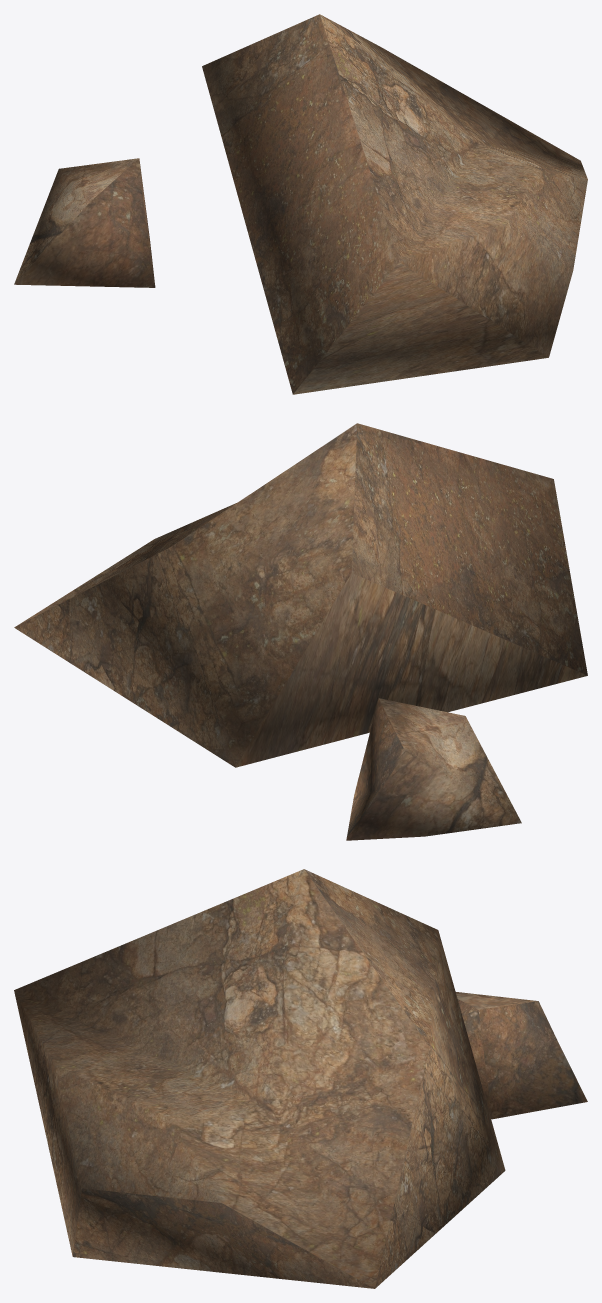
Rendered from pebbles2.fbx.
3 renders of one model, top to bottom at view 1: azimuth 30°, elevation 25°; view 2: azimuth 150°, elevation 25°; view 3: azimuth 270°, elevation 25°, orthographic. The views are drawn at different scales.
Visible parts, largest first — view 1: Pebbles2; view 2: Pebbles2; view 3: Pebbles2.
Part boxes in pixels (x1=…): Pebbles2: x1=14, y1=14, x2=587, y2=394; Pebbles2: x1=14, y1=423, x2=587, y2=840; Pebbles2: x1=14, y1=869, x2=587, y2=1288.
Size of the model in its own units: 43.14 by 23.25 by 37.5.
1 material, 1 textured.
